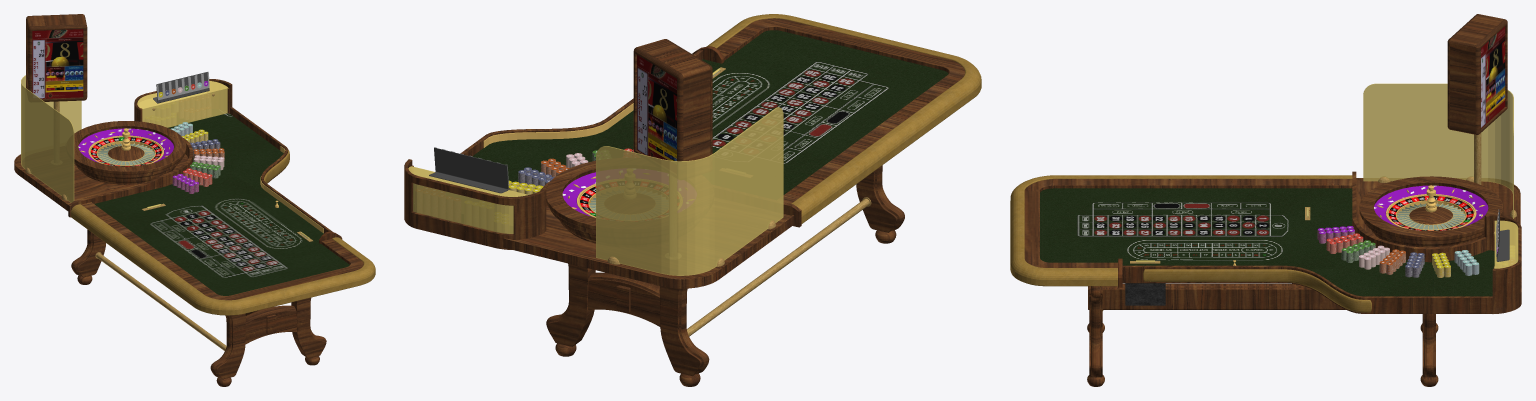
Rendered from Table_Abbiati_casino_N010617.obj.
3 views of the same model, side by side, from view 1: azimuth 30°, elevation 25°; view 2: azimuth 150°, elevation 25°; view 3: azimuth 270°, elevation 25° (orthographic). The views are drawn at different scales.
Visible parts, largest first — view 1: Line03, Loft01, ChamferBox01, Line05, Line28, Line18, Line07, Box04, Line02, Arc02, Line01, Cylinder03 (+11 smaller); view 2: Line03, Line05, ChamferBox01, Loft01, Line18, Line07, Line02, Line11, Line12, Line28, Arc03, Line06 (+5 smaller); view 3: Line03, Line05, ChamferBox01, Line28, Line16, Line07, Loft01, Line08, Line10, Line18, Line11, Line01 (+7 smaller).
Boxes of the visible parts, left/top/right/bottom form: Line03: left=94, top=113, right=349, bottom=295; Loft01: left=70, top=204, right=375, bottom=315; ChamferBox01: left=26, top=14, right=87, bottom=112; Line05: left=21, top=75, right=81, bottom=202; Line28: left=74, top=121, right=186, bottom=184; Line18: left=71, top=229, right=326, bottom=379; Line07: left=81, top=202, right=363, bottom=300; Box04: left=142, top=88, right=227, bottom=127; Line02: left=14, top=154, right=188, bottom=210; Arc02: left=245, top=305, right=296, bottom=344; Line01: left=68, top=138, right=192, bottom=217; Cylinder03: left=95, top=88, right=226, bottom=350; Line03: left=472, top=30, right=948, bottom=194; Line05: left=596, top=107, right=783, bottom=275; ChamferBox01: left=633, top=39, right=712, bottom=161; Loft01: left=707, top=14, right=981, bottom=223; Line18: left=546, top=165, right=904, bottom=376; Line07: left=716, top=18, right=964, bottom=203; Line02: left=503, top=205, right=794, bottom=288; Line11: left=404, top=159, right=546, bottom=249; Line12: left=413, top=183, right=513, bottom=233; Line28: left=546, top=160, right=595, bottom=243; Arc03: left=588, top=272, right=660, bottom=326; Line06: left=429, top=147, right=508, bottom=193; Line03: left=1040, top=188, right=1494, bottom=296; Line05: left=1363, top=83, right=1513, bottom=218; ChamferBox01: left=1447, top=14, right=1507, bottom=184; Line28: left=1359, top=176, right=1503, bottom=247; Line16: left=1088, top=284, right=1345, bottom=309; Line07: left=1024, top=179, right=1352, bottom=267; Loft01: left=1010, top=175, right=1352, bottom=286; Line08: left=1122, top=265, right=1492, bottom=313; Line10: left=1143, top=269, right=1371, bottom=312; Line18: left=1089, top=286, right=1435, bottom=377; Line11: left=1484, top=214, right=1521, bottom=313; Line01: left=1352, top=171, right=1486, bottom=262.
Size of the model in its own units: 676 by 725 by 1123.
